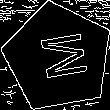M_W: (29, 30, 87, 85)
